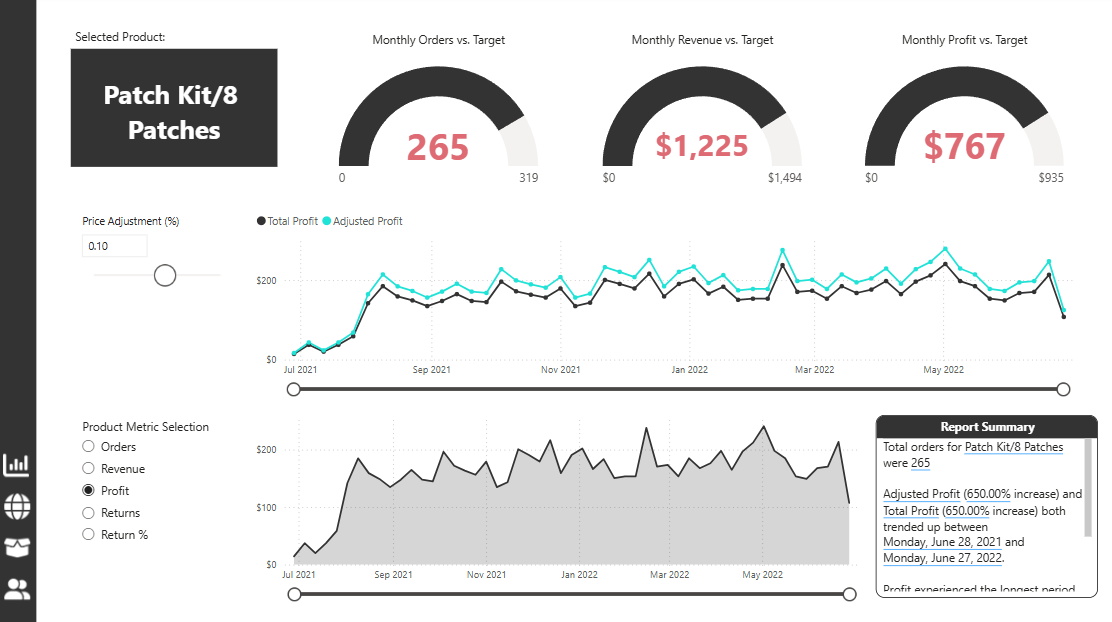

What the dashboard file says about the page in this screenshot:
{"tool":"powerbi","page":{"name":"Product Detail","canvas":[1280,720],"ordinal":2},"visuals":[{"type":"shape","box":[0,0,45,720],"z":0},{"type":"actionButton","box":[2.5,516.7,45.6,37.8],"z":0,"group":"g1"},{"type":"gauge","title":"Monthly Orders vs. Target","fields":{"MaxValue":["Measure Table.Order Target"],"Y":["Measure Table.Total Orders"]},"box":[383.7,41.5,236.9,203.7],"z":1000},{"type":"actionButton","box":[3.3,563.4,45.6,37.8],"z":1000,"group":"g1"},{"type":"gauge","title":"Monthly Revenue vs. Target","fields":{"MaxValue":["Measure Table.Revenue Target"],"Y":["Measure Table.Total Revenue"]},"box":[683.5,41.5,236.9,203.7],"z":2000},{"type":"actionButton","box":[3.3,611.1,45.6,37.8],"z":2000,"group":"g1"},{"type":"gauge","title":"Monthly Profit vs. Target","fields":{"MaxValue":["Measure Table.Profit Target"],"Y":["Measure Table.Total Profit"]},"box":[983.4,41.8,236.2,203.5],"z":3000},{"type":"actionButton","box":[3.3,657.8,45.6,37.8],"z":3000,"group":"g1"},{"type":"lineChart","title":"Profit Trending","fields":{"Category":["Calendar Lookup.Date Hierarchy.Year","Calendar Lookup.Date Hierarchy.Start of Month","Calendar Lookup.Date Hierarchy.Start of Week","Calendar Lookup.Date Hierarchy.Date"],"Y":["Measure Table.Total Profit","Measure Table.Adjusted Profit"]},"box":[290.5,237.4,952.8,221.5],"z":4000},{"type":"areaChart","title":"Return Trending","fields":{"Category":["Calendar Lookup.Date Hierarchy.Year","Calendar Lookup.Date Hierarchy.Start of Month","Calendar Lookup.Date Hierarchy.Start of Week","Calendar Lookup.Date Hierarchy.Date"],"Y":["Measure Table.Total Profit"]},"box":[290.5,471.3,708.7,221.5],"z":5000},{"type":"card","fields":{"Values":["Min(Product Lookup.ProductName)"]},"box":[83.6,61,235.1,134.5],"z":6000},{"type":"textbox","box":[83.6,32.8,136.8,36.2],"z":7000},{"type":"group","id":"g1","title":"Navigation Buttons","box":[2.5,516.7,46.4,178.9],"z":8000},{"type":"slicer","fields":{"Values":["Price Adjustment (%).Price Adjustment (%)"]},"box":[83.6,245.3,193.3,123.2],"z":9000},{"type":"slicer","fields":{"Values":["Product Metric Selection.Product Metric Selection"]},"box":[83.6,477,193.3,180.8],"z":10000},{"type":"textbox","title":"Report Summary","box":[999.2,478.1,253.2,208],"z":11000}]}

Visuals, with their boxes on the page's 1280x720 design canvas (x1, y1, x2, y2). These are canvas units, not pixel positions in the 1112x622 screenshot, which may show the page scaled, cropped or inside an application window:
shape: select_region(0, 0, 45, 720)
actionButton: select_region(2, 517, 48, 554)
"Monthly Orders vs. Target" gauge: select_region(384, 42, 621, 245)
actionButton: select_region(3, 563, 49, 601)
"Monthly Revenue vs. Target" gauge: select_region(684, 42, 920, 245)
actionButton: select_region(3, 611, 49, 649)
"Monthly Profit vs. Target" gauge: select_region(983, 42, 1220, 245)
actionButton: select_region(3, 658, 49, 696)
"Profit Trending" lineChart: select_region(290, 237, 1243, 459)
"Return Trending" areaChart: select_region(290, 471, 999, 693)
card - Min(Product Lookup.ProductName): select_region(84, 61, 319, 196)
textbox: select_region(84, 33, 220, 69)
"Navigation Buttons" group: select_region(2, 517, 49, 696)
slicer - Price Adjustment (%).Price Adjustment (%): select_region(84, 245, 277, 368)
slicer - Product Metric Selection.Product Metric Selection: select_region(84, 477, 277, 658)
"Report Summary" textbox: select_region(999, 478, 1252, 686)
